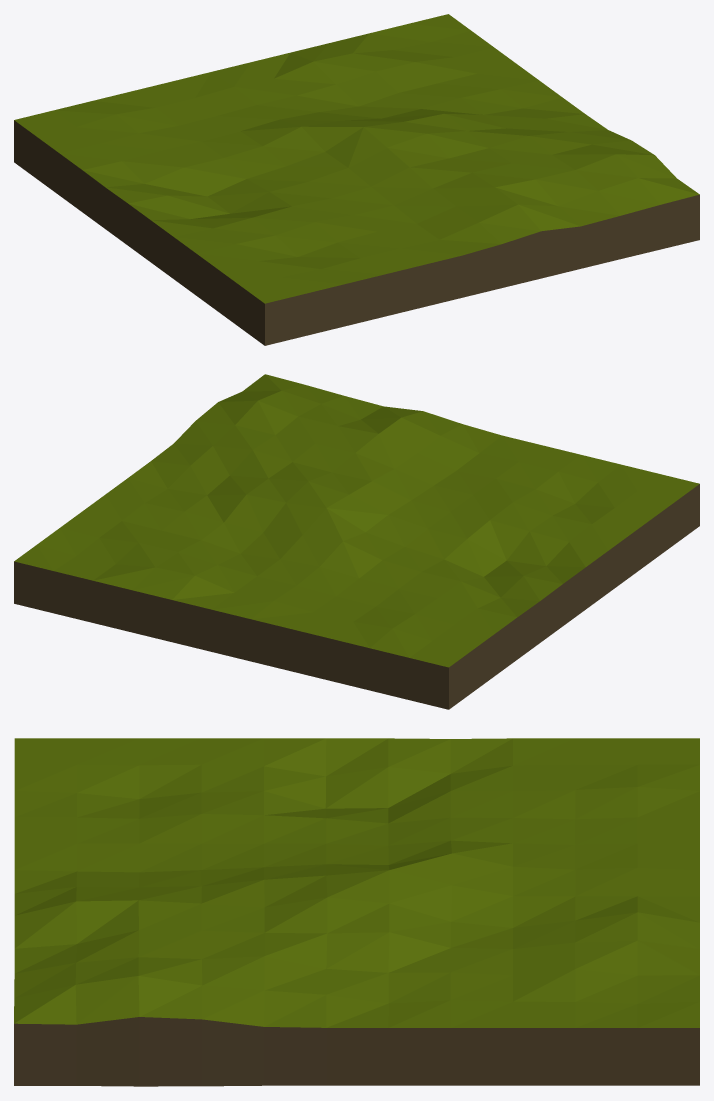
The model's file is Ground.fbx.
3 renders of one model, top to bottom at view 1: azimuth 30°, elevation 25°; view 2: azimuth 150°, elevation 25°; view 3: azimuth 270°, elevation 25°, orthographic. The views are drawn at different scales.
Parts seen in each view (by area): view 1: Ground; view 2: Ground; view 3: Ground.
Part boxes in pixels (left/top/right/bottom): Ground: left=14, top=14, right=699, bottom=345; Ground: left=14, top=374, right=699, bottom=709; Ground: left=14, top=738, right=699, bottom=1086.
Bounding box in the file's own units: 5222 × 708 × 5213.
